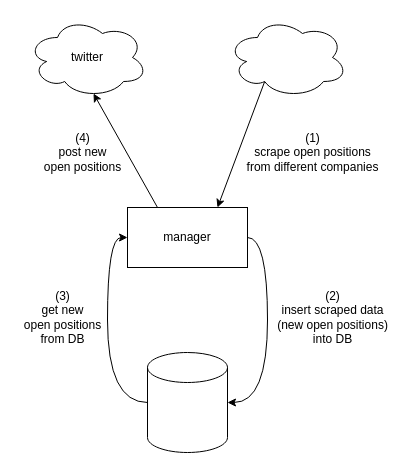
Some shapes in this 414 by 470 pixel diagram are drawn without their labels. Here are the shapes that lost their labels. From the top down, the centre of each, then its label:
(x=287, y=57): web
(x=187, y=402): mongoDB
